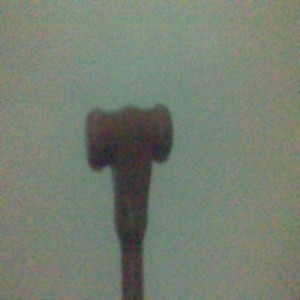palu: (85, 101, 174, 300)
